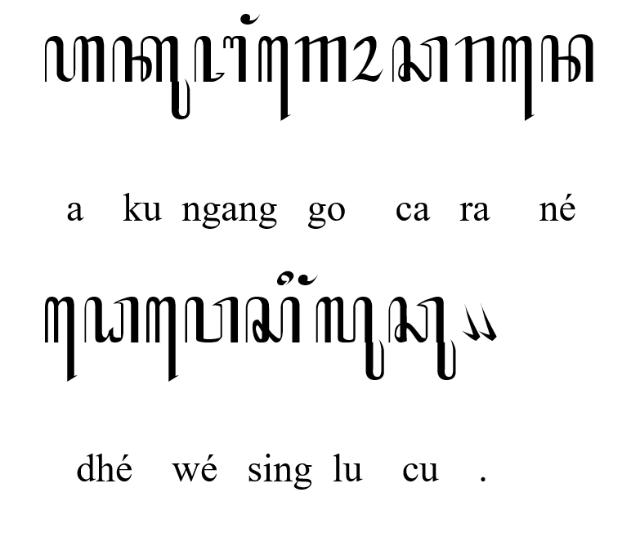c: (392, 35, 448, 83)
cu: (388, 295, 457, 381)
dh: (84, 294, 140, 344)
e1: (41, 297, 77, 383), (501, 35, 535, 123), (145, 296, 179, 382), (258, 35, 290, 121)
g: (294, 35, 346, 83)
h: (44, 35, 106, 83)
i: (276, 270, 294, 286)
kom: (477, 304, 497, 342), (462, 304, 481, 342)
ku: (111, 36, 191, 120)
lu: (315, 296, 385, 380)
n: (541, 34, 595, 84)
ng: (297, 272, 319, 285), (240, 13, 260, 25)
nga: (193, 35, 247, 83)
o: (351, 36, 384, 82)
r: (454, 35, 496, 83)
s: (245, 296, 301, 345)
w: (184, 294, 238, 344)
